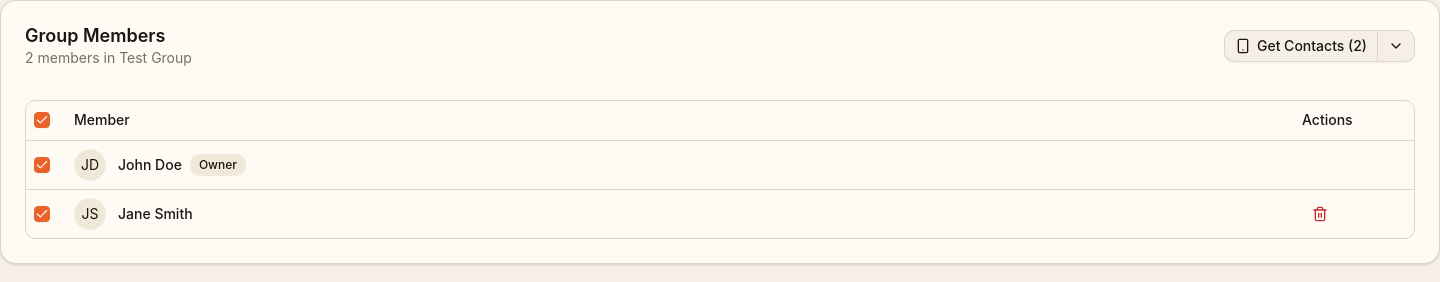
Test: MemberList — export menu › offers Export on desktop
What coordinates should you click on to do the following:
click the button named "Export options"
I would click on:
 (1396, 46)
Its box is [1377,30,1415,62].
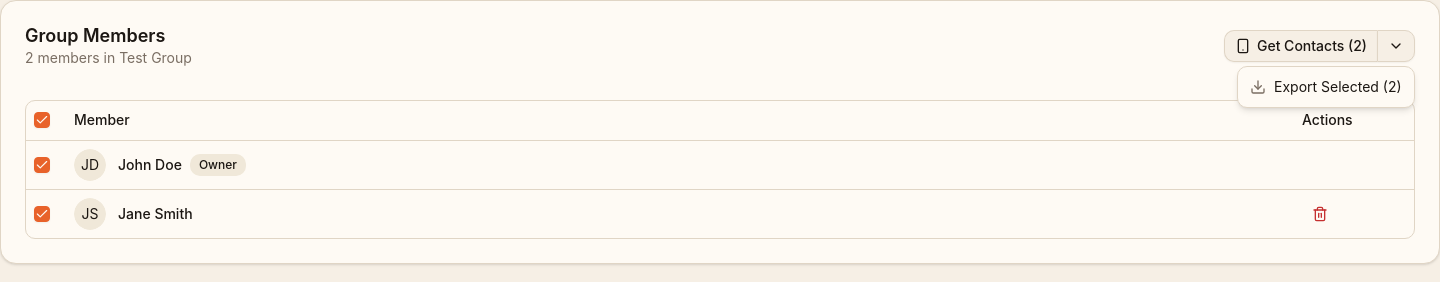
Expected: the menu item "Export Selected (2)" is shown, [1250,78,1402,95]
